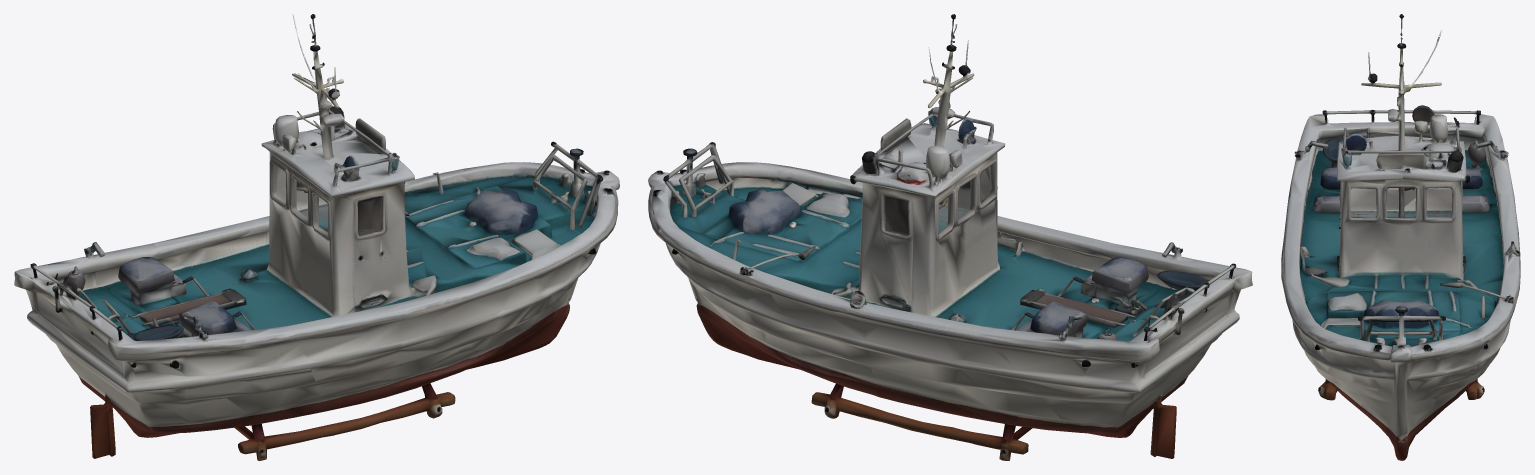
Rendered from boat.glb.
3 views of the same model, side by side, from view 1: azimuth 30°, elevation 25°; view 2: azimuth 150°, elevation 25°; view 3: azimuth 270°, elevation 25° (orthographic). The views are drawn at different scales.
Visible parts, largest first — view 1: tripo_node_bc0774b3-ea87-41eb-9710-bb6ddbb6aea8; view 2: tripo_node_bc0774b3-ea87-41eb-9710-bb6ddbb6aea8; view 3: tripo_node_bc0774b3-ea87-41eb-9710-bb6ddbb6aea8.
Part boxes in pixels (x1,y1,x2,y2): tripo_node_bc0774b3-ea87-41eb-9710-bb6ddbb6aea8: (14,14,619,460); tripo_node_bc0774b3-ea87-41eb-9710-bb6ddbb6aea8: (648,14,1252,460); tripo_node_bc0774b3-ea87-41eb-9710-bb6ddbb6aea8: (1281,14,1520,460).
Size of the model in its own units: 1 by 0.6825 by 0.4226.
1 material, 1 textured.
